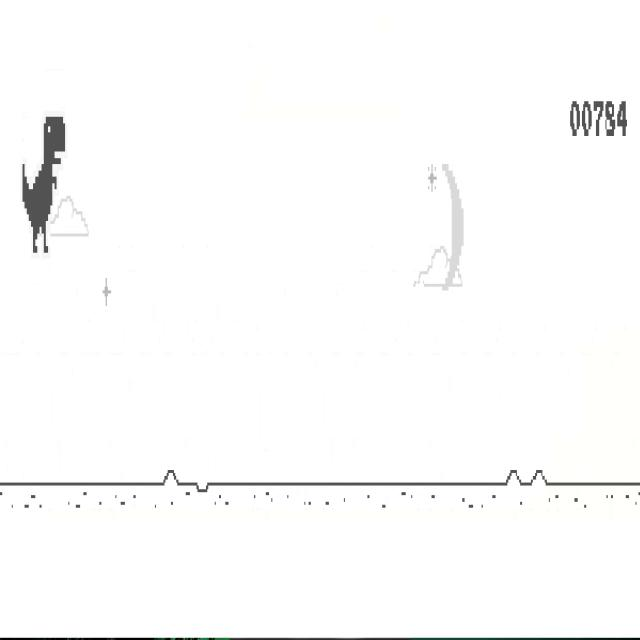dino: (22, 116, 66, 254)
